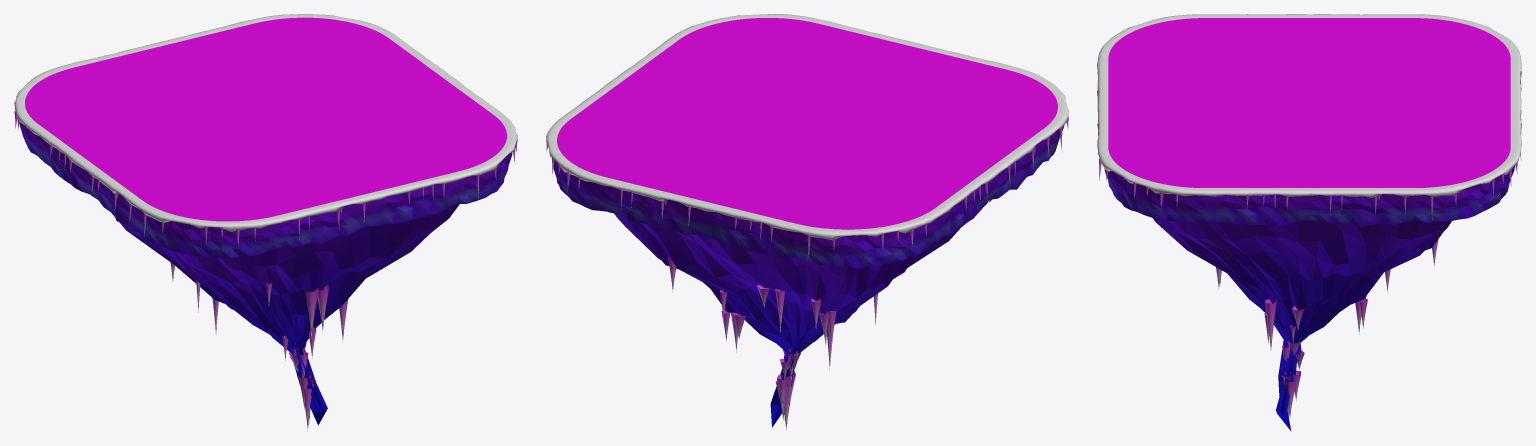
Rendered from Arena_Ice_16.fbx.
The picture shows the model from 3 angles, left to right: view 1: azimuth 30°, elevation 25°; view 2: azimuth 150°, elevation 25°; view 3: azimuth 270°, elevation 25°; orthographic projection. The views are drawn at different scales.
Visible parts, largest first — view 1: Island_Underside, Ice_Corner_00, Ice_Edge_4_B_08, Ice_Edge_4_A_04, Ice_Edge_4_B_02, Ice_Edge_4_A_01, Ice_Corner_12, Ice_Edge_4_A_14, Ice_Edge_4_B_13, Ice_Edge_4_A_11, Ice_Edge_4_B_07, Ice_Top_4x4_06 (+5 smaller); view 2: Island_Underside, Ice_Corner_03, Ice_Edge_4_B_07, Ice_Edge_4_A_11, Ice_Edge_4_A_01, Ice_Edge_4_B_02, Ice_Corner_15, Ice_Edge_4_A_14, Ice_Edge_4_B_13, Ice_Edge_4_A_04, Ice_Edge_4_B_08, Ice_Top_4x4_10 (+5 smaller); view 3: Island_Underside, Ice_Edge_4_B_13, Ice_Edge_4_A_14, Ice_Corner_12, Ice_Corner_15, Ice_Edge_4_A_11, Ice_Edge_4_B_08, Ice_Edge_4_A_04, Ice_Edge_4_B_07, Ice_Edge_4_A_01, Ice_Edge_4_B_02, Ice_Top_4x4_09 (+5 smaller).
Boxes of the visible parts, x1,y1,x2,y2 form: Island_Underside: (111,204,459,431); Ice_Corner_00: (134,180,281,257); Ice_Edge_4_B_08: (319,136,463,226); Ice_Edge_4_A_04: (228,158,372,248); Ice_Edge_4_B_02: (29,103,174,194); Ice_Edge_4_A_01: (81,142,226,233); Ice_Corner_12: (410,113,517,203); Ice_Edge_4_A_14: (305,36,449,97); Ice_Edge_4_B_13: (357,75,502,135); Ice_Edge_4_A_11: (160,20,303,80); Ice_Edge_4_B_07: (69,42,212,103); Ice_Top_4x4_06: (122,81,265,141); Island_Underside: (614,197,990,429); Ice_Corner_03: (791,187,944,268); Ice_Edge_4_B_07: (696,164,846,257); Ice_Edge_4_A_11: (602,140,752,234); Ice_Edge_4_A_01: (902,107,1053,202); Ice_Edge_4_B_02: (848,147,999,242); Ice_Corner_15: (546,117,657,211); Ice_Edge_4_A_14: (562,77,712,140); Ice_Edge_4_B_13: (617,37,766,100); Ice_Edge_4_A_04: (862,43,1011,106); Ice_Edge_4_B_08: (768,20,917,83); Ice_Top_4x4_10: (658,100,806,163); Island_Underside: (1153,218,1451,431); Ice_Edge_4_B_13: (1205,147,1309,224); Ice_Edge_4_A_14: (1309,147,1413,227); Ice_Corner_12: (1097,147,1204,222); Ice_Corner_15: (1414,147,1520,222); Ice_Edge_4_A_11: (1414,103,1521,160); Ice_Edge_4_B_08: (1097,103,1204,154); Ice_Edge_4_A_04: (1097,58,1204,104); Ice_Edge_4_B_07: (1414,58,1521,104); Ice_Edge_4_A_01: (1205,14,1309,58); Ice_Edge_4_B_02: (1309,14,1413,58); Ice_Top_4x4_09: (1205,103,1309,147).
Size of what is drawn, in the model's own units: 16.26 by 13.1 by 16.26.
